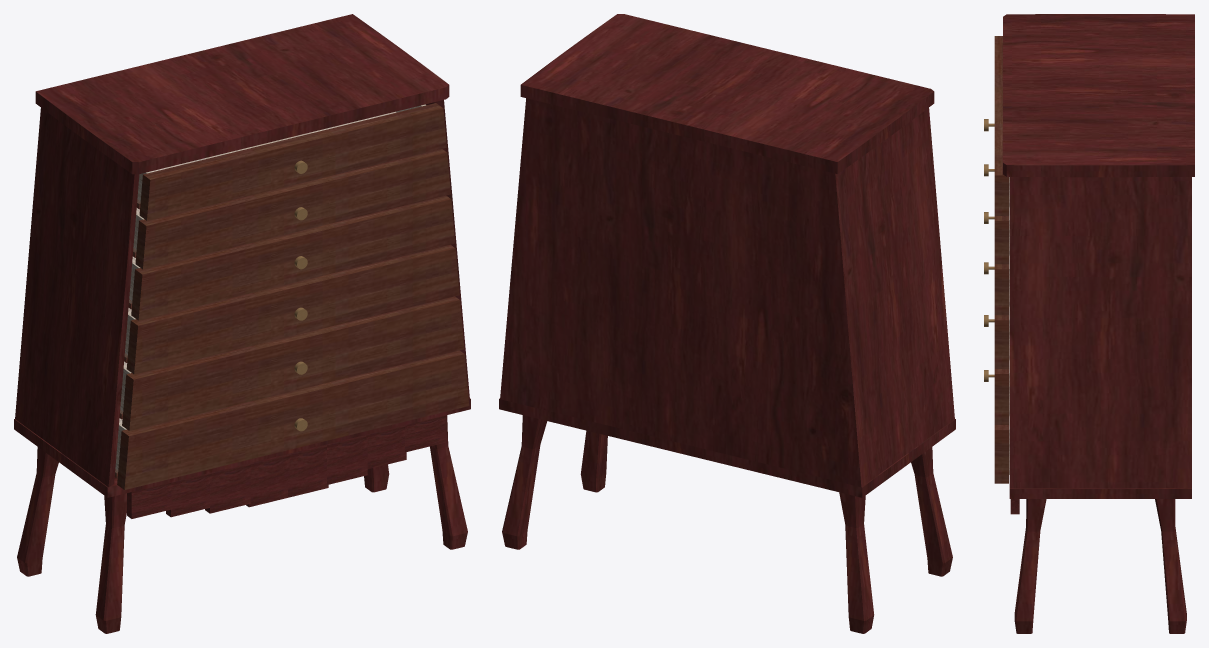
Rendered from drawer_cabinet_with_sliding_drawers__0004.glb.
3 views of the same model, side by side, from view 1: azimuth 30°, elevation 25°; view 2: azimuth 150°, elevation 25°; view 3: azimuth 270°, elevation 25° (orthographic). The views are drawn at different scales.
Parts seen in each view (by area): view 1: carcass::body_form__tapered_case__top_slab, carcass::body_form__tapered_case__case_shell, drawer_front__flat_panel__drawer_0::drawer_front__flat_panel, drawer_front__flat_panel__drawer_1::drawer_front__flat_panel, drawer_front__flat_panel__drawer_2::drawer_front__flat_panel, drawer_front__flat_panel__drawer_3::drawer_front__flat_panel, drawer_front__flat_panel__drawer_4::drawer_front__flat_panel, drawer_front__flat_panel__drawer_5::drawer_front__flat_panel, carcass::support_base__tapered_legs_apron__tapered_leg_0__sh, carcass::body_form__tapered_case__base_panel, carcass::support_base__tapered_legs_apron__tapered_leg_2__sh, carcass::support_base__tapered_legs_apron__tapered_leg_1__sh (+8 smaller); view 2: carcass::body_form__tapered_case__case_shell, carcass::body_form__tapered_case__top_slab, carcass::body_form__tapered_case__base_panel, carcass::support_base__tapered_legs_apron__tapered_leg_2__sh, carcass::support_base__tapered_legs_apron__tapered_leg_3__sh, carcass::support_base__tapered_legs_apron__tapered_leg_0__sh, carcass::support_base__tapered_legs_apron__tapered_leg_1__sh; view 3: carcass::body_form__tapered_case__case_shell, carcass::body_form__tapered_case__top_slab, carcass::support_base__tapered_legs_apron__tapered_leg_3__sh, carcass::support_base__tapered_legs_apron__tapered_leg_1__sh, carcass::body_form__tapered_case__base_panel, drawer_front__flat_panel__drawer_5::drawer_front__flat_panel, drawer_front__flat_panel__drawer_0::drawer_front__flat_panel, drawer_front__flat_panel__drawer_1::drawer_front__flat_panel, drawer_front__flat_panel__drawer_2::drawer_front__flat_panel, drawer_front__flat_panel__drawer_3::drawer_front__flat_panel, drawer_front__flat_panel__drawer_4::drawer_front__flat_panel.
Boxes of the visible parts, x1,y1,x2,y2 form: carcass::body_form__tapered_case__top_slab: (35, 14, 449, 174); carcass::body_form__tapered_case__case_shell: (15, 100, 469, 487); drawer_front__flat_panel__drawer_0::drawer_front__flat_panel: (117, 350, 469, 489); drawer_front__flat_panel__drawer_1::drawer_front__flat_panel: (122, 296, 464, 430); drawer_front__flat_panel__drawer_2::drawer_front__flat_panel: (126, 244, 459, 374); drawer_front__flat_panel__drawer_3::drawer_front__flat_panel: (131, 195, 455, 320); drawer_front__flat_panel__drawer_4::drawer_front__flat_panel: (135, 149, 450, 269); drawer_front__flat_panel__drawer_5::drawer_front__flat_panel: (139, 103, 446, 220); carcass::support_base__tapered_legs_apron__tapered_leg_0__sh: (95, 493, 126, 633); carcass::body_form__tapered_case__base_panel: (14, 398, 470, 497); carcass::support_base__tapered_legs_apron__tapered_leg_2__sh: (17, 447, 58, 576); carcass::support_base__tapered_legs_apron__tapered_leg_1__sh: (430, 415, 467, 549); carcass::body_form__tapered_case__case_shell: (500, 98, 954, 487); carcass::body_form__tapered_case__top_slab: (520, 14, 934, 173); carcass::body_form__tapered_case__base_panel: (499, 398, 955, 497); carcass::support_base__tapered_legs_apron__tapered_leg_2__sh: (839, 492, 874, 633); carcass::support_base__tapered_legs_apron__tapered_leg_3__sh: (502, 415, 547, 549); carcass::support_base__tapered_legs_apron__tapered_leg_0__sh: (911, 447, 952, 576); carcass::support_base__tapered_legs_apron__tapered_leg_1__sh: (580, 430, 607, 492); carcass::body_form__tapered_case__case_shell: (1009, 177, 1191, 488); carcass::body_form__tapered_case__top_slab: (1003, 14, 1194, 177); carcass::support_base__tapered_legs_apron__tapered_leg_3__sh: (1155, 499, 1186, 633); carcass::support_base__tapered_legs_apron__tapered_leg_1__sh: (1014, 499, 1046, 633); carcass::body_form__tapered_case__base_panel: (1009, 488, 1191, 498); drawer_front__flat_panel__drawer_5::drawer_front__flat_panel: (994, 36, 1008, 215); drawer_front__flat_panel__drawer_0::drawer_front__flat_panel: (994, 425, 1008, 483); drawer_front__flat_panel__drawer_1::drawer_front__flat_panel: (994, 369, 1008, 424); drawer_front__flat_panel__drawer_2::drawer_front__flat_panel: (994, 315, 1008, 368); drawer_front__flat_panel__drawer_3::drawer_front__flat_panel: (994, 264, 1008, 315); drawer_front__flat_panel__drawer_4::drawer_front__flat_panel: (994, 216, 1008, 264).
Bounding box in the file's own units: 0.884 × 1.09 × 0.4546.
Materials: 5 (5 with a texture image).
